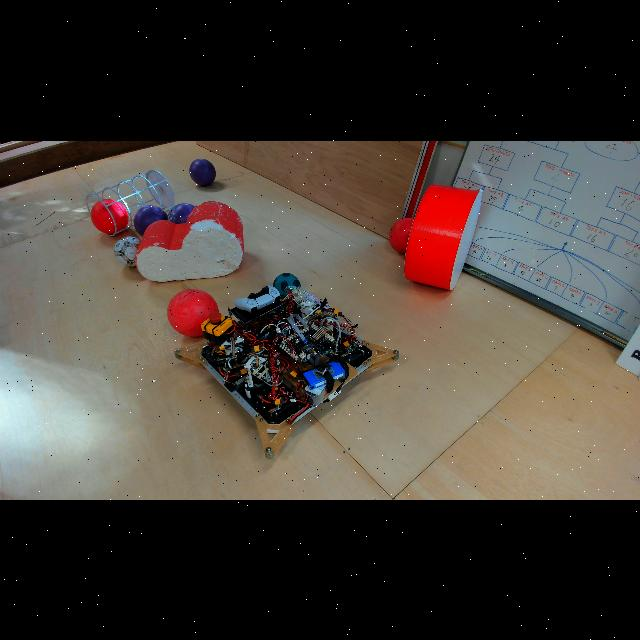P: (134, 205, 170, 238), (168, 202, 200, 234), (190, 158, 217, 186)
R: (167, 288, 220, 336), (90, 198, 130, 234), (388, 217, 422, 253)
S: (84, 168, 176, 236)
